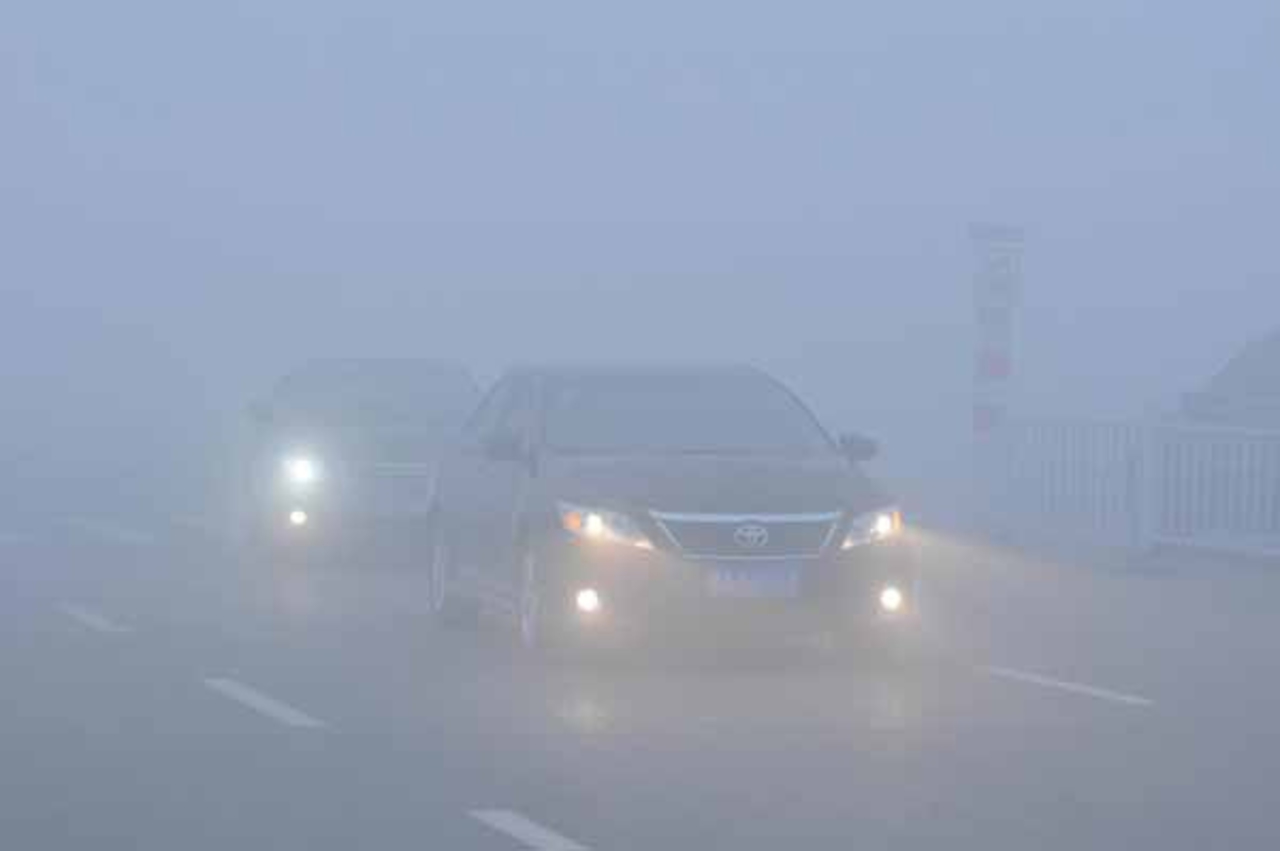car: (422, 358, 913, 675), (235, 352, 486, 562)
